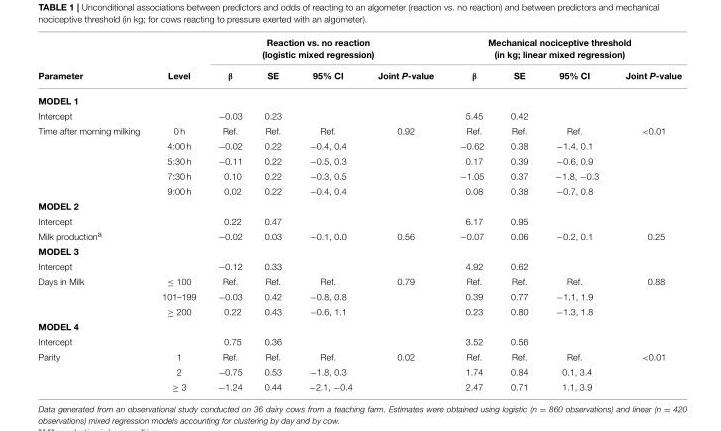table: (37, 37, 681, 391)
table column: (37, 37, 150, 391), (364, 37, 446, 391), (540, 37, 611, 391), (294, 37, 364, 391), (611, 37, 681, 391), (150, 37, 206, 391), (446, 37, 496, 391), (206, 37, 252, 391), (496, 37, 540, 391), (252, 37, 294, 391)
table column header: (37, 37, 681, 88)
table projected row header: (37, 88, 681, 108), (37, 198, 681, 213), (37, 243, 681, 258), (37, 319, 681, 334)
table row: (37, 37, 681, 65), (37, 65, 681, 88), (37, 88, 681, 108), (37, 227, 681, 243), (37, 258, 681, 274), (37, 108, 681, 123), (37, 123, 681, 138), (37, 138, 681, 153), (37, 153, 681, 168), (37, 168, 681, 183), (37, 183, 681, 198), (37, 198, 681, 213), (37, 243, 681, 258), (37, 274, 681, 289), (37, 289, 681, 304), (37, 304, 681, 319), (37, 319, 681, 334), (37, 334, 681, 349), (37, 349, 681, 364), (37, 364, 681, 379), (37, 213, 681, 227), (37, 379, 681, 391)
table spanning cell: (37, 123, 150, 198), (206, 37, 446, 65), (446, 37, 681, 65), (37, 37, 150, 88), (37, 274, 150, 319), (37, 349, 150, 391), (150, 37, 206, 88)
